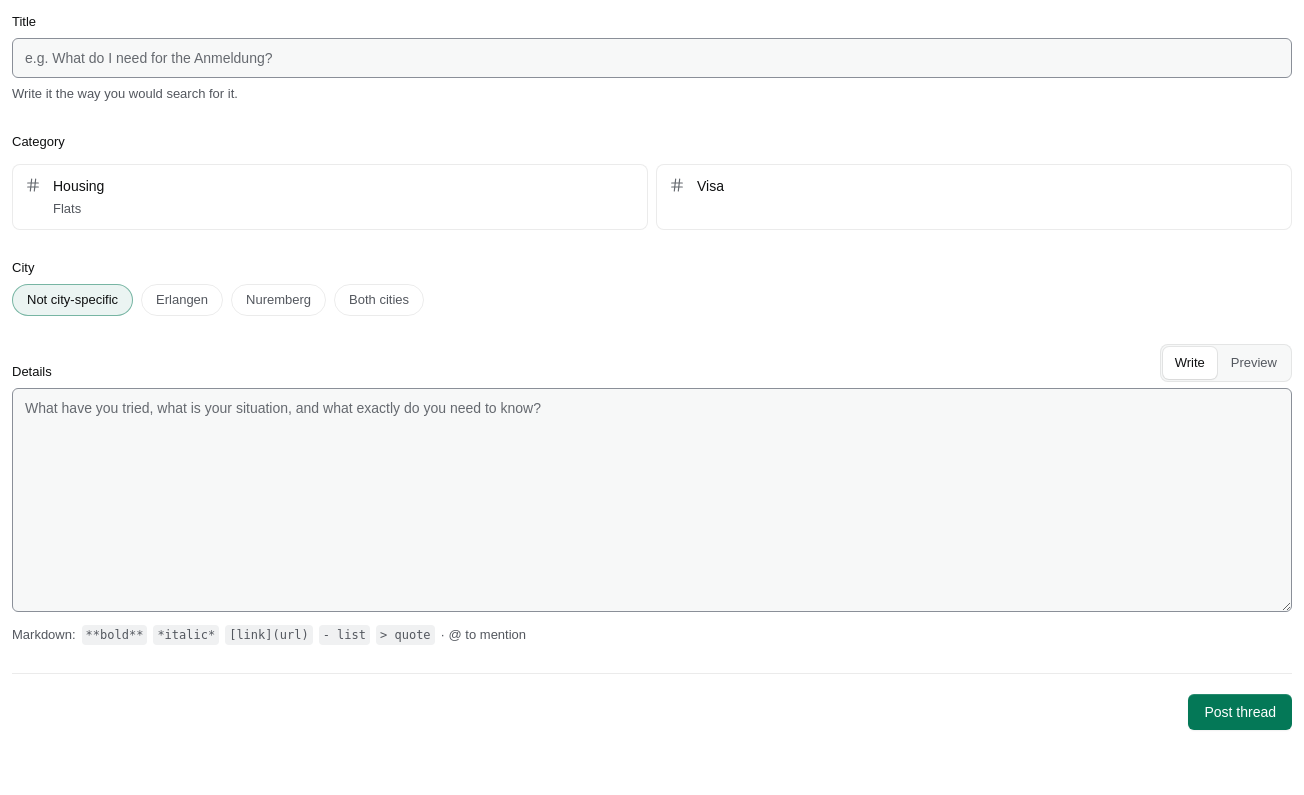
Scenario: ThreadForm errors › leaves other field errors alone when one field is edited
The image size is (1304, 795).
Step 1. Click the button "Post thread" → (1240, 712), box [1188,694,1292,730]
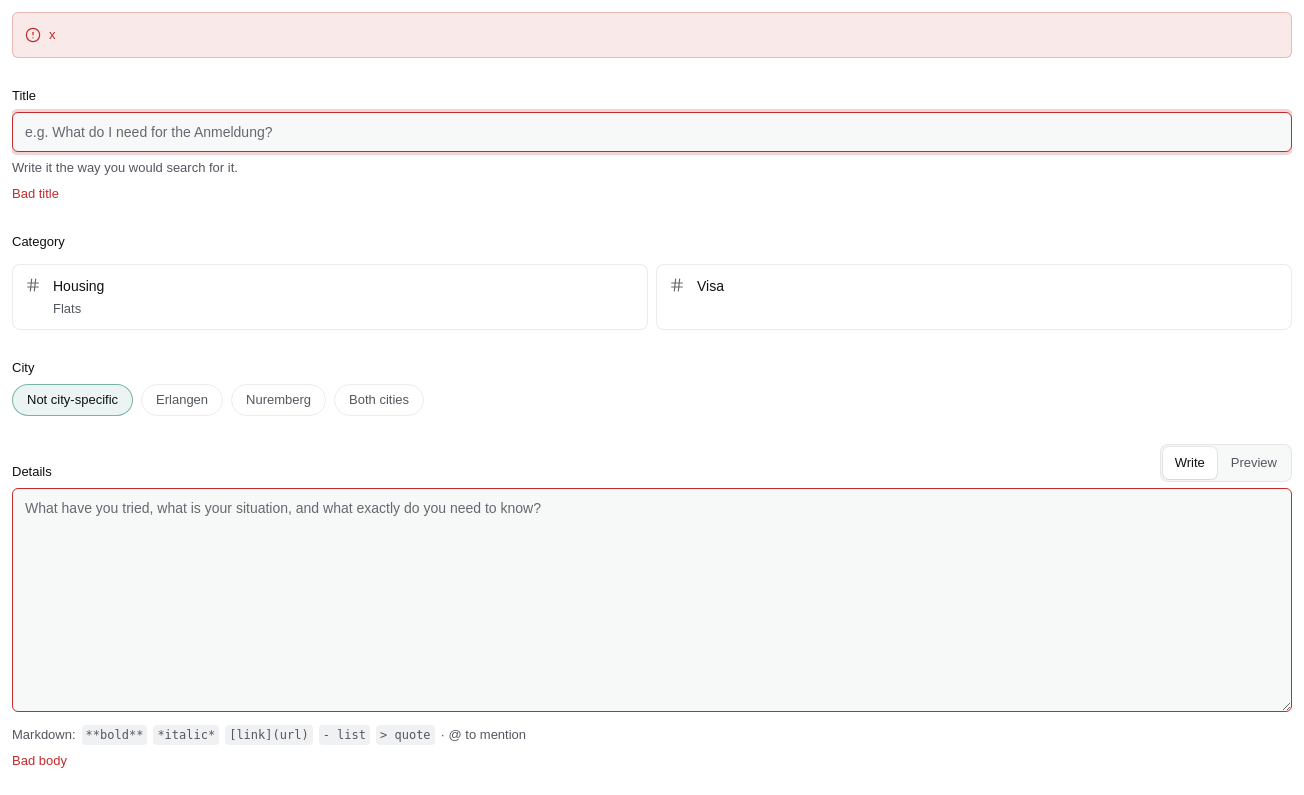
Check: the text "Bad title" is shown, box [12,186,59,201]
Step 2. Type "a" into the field labelled "Title" → (652, 132), box [12,112,1292,152]
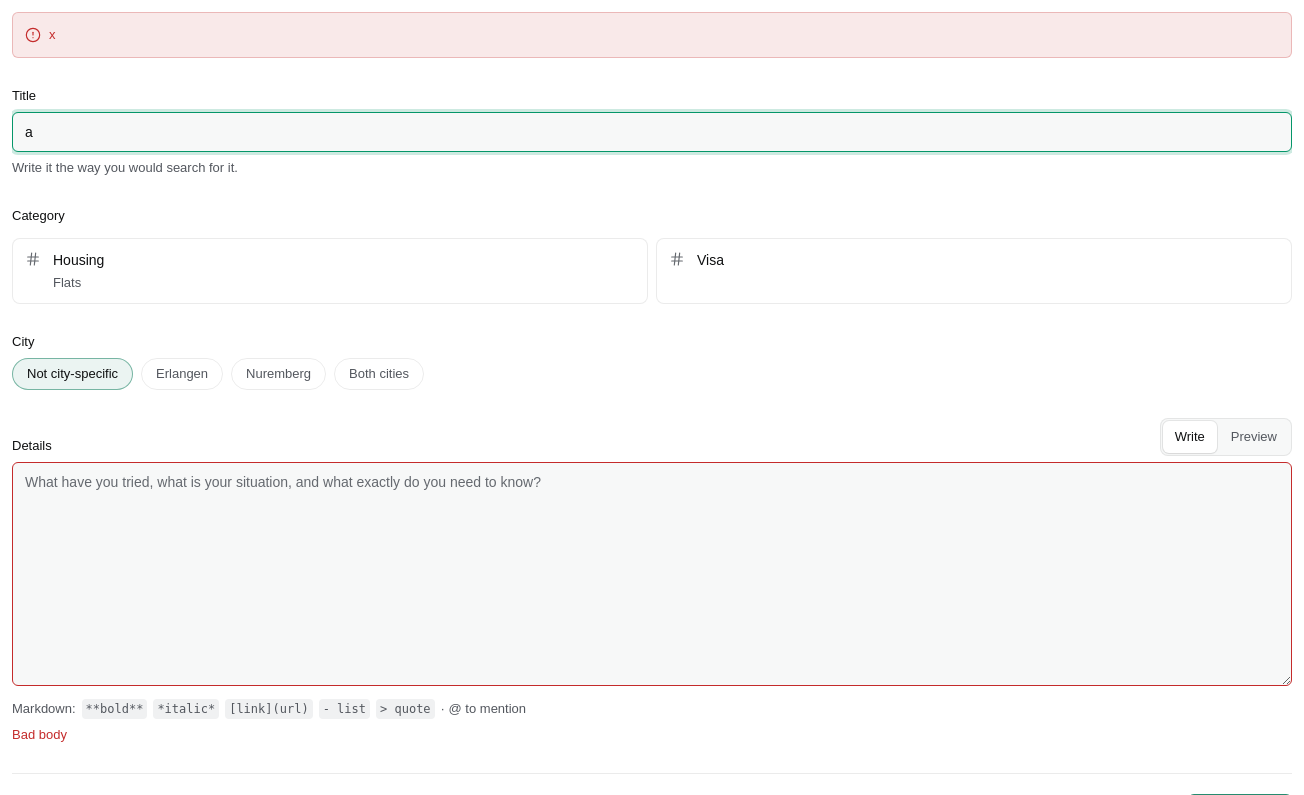
Check: the text "Bad body" is shown, box [12,727,67,742]
Check: the text "Bad title" is gone
